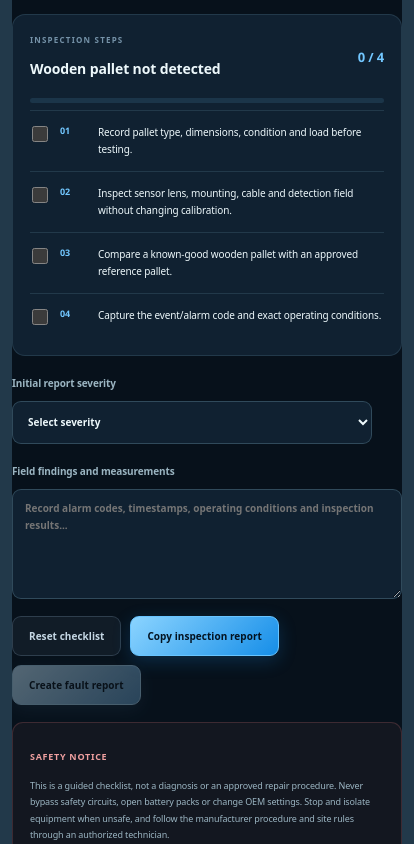
it: DiagnosticWorkbench › registers a reviewed diagnostic as a formal fault only after severity selection
Later steps or results of the test are not shown.
(page scrolled)
Check: the button "Create fault report" is disabled, box [12, 665, 141, 705]
Select "Major" in the dropdown labelled "Initial report severity". click: (192, 423)
box: [12, 401, 372, 444]
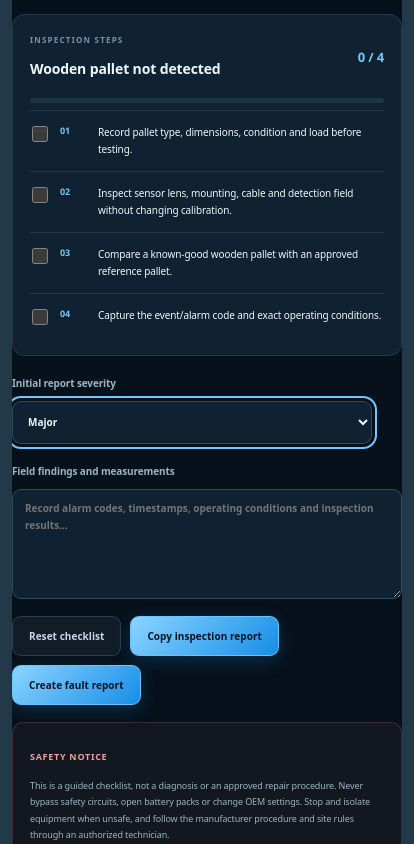
Type "Sensor bracket was loose during inspection." into the text box labelled "Field findings and measurements". click: (207, 544)
box: [12, 489, 402, 599]
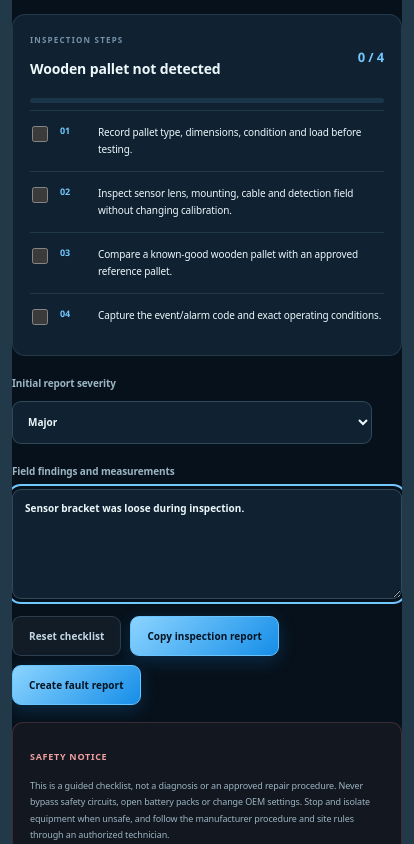
Check: the button "Create fault report" is enabled, box [12, 665, 141, 705]
